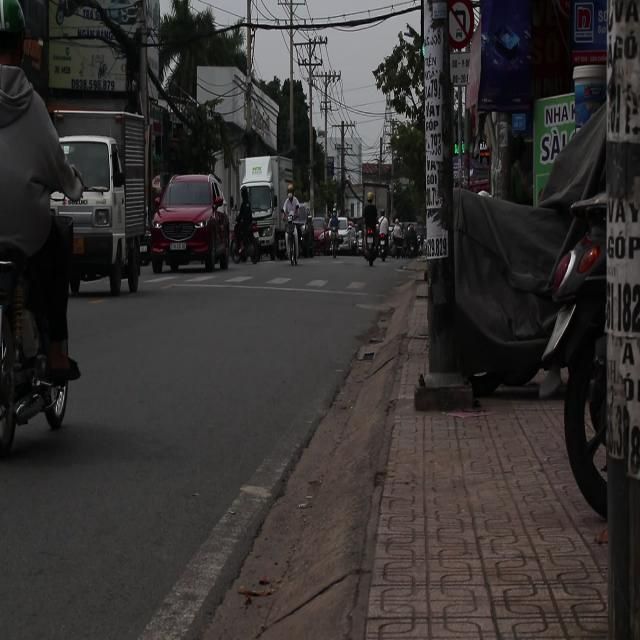car: (151, 175, 233, 272), (327, 218, 356, 254)
motorbike: (0, 234, 76, 456), (358, 188, 382, 284), (276, 197, 305, 273)
truck: (52, 112, 152, 294), (236, 156, 294, 260)
